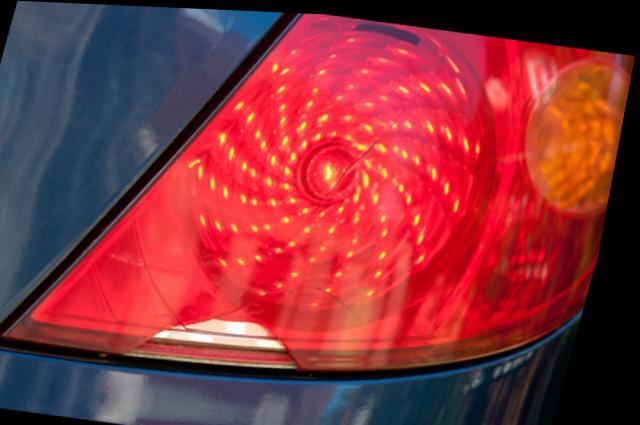lamp broken: (11, 10, 636, 367)
